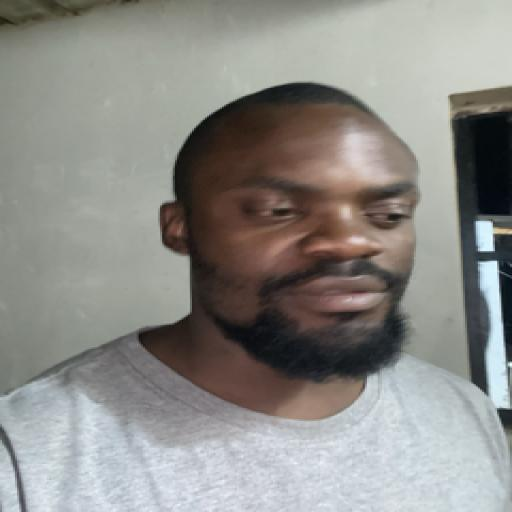JEANLUC: (146, 77, 440, 391)
